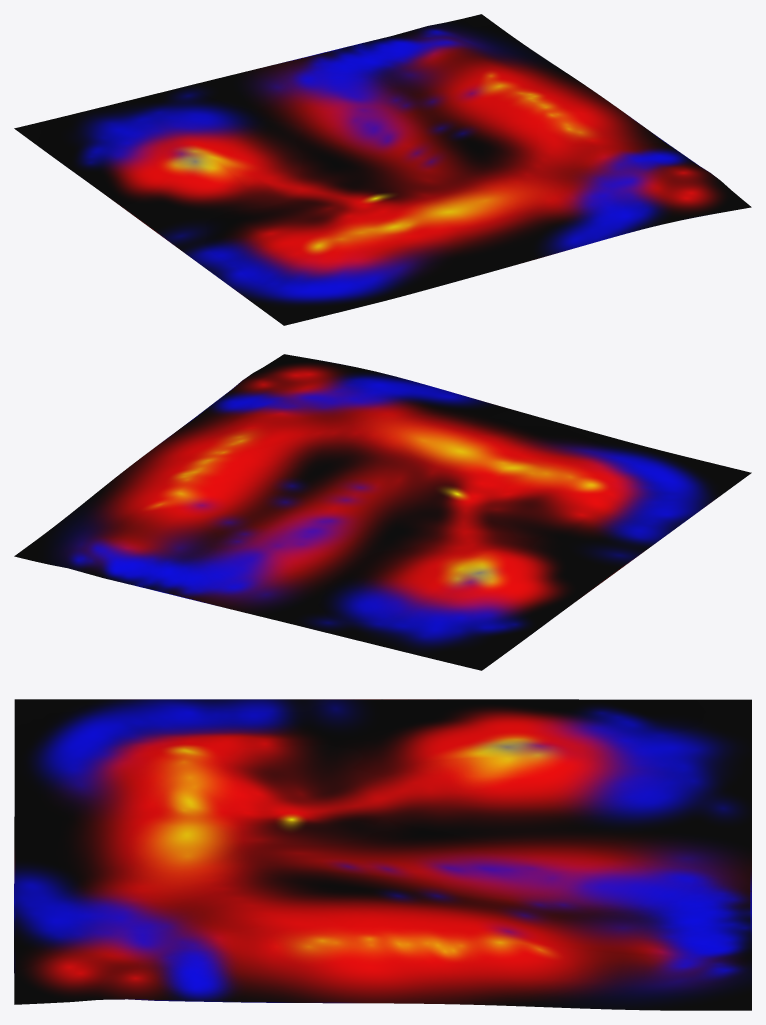
File: realterrain.glb
3 views of the same model, one above another, from view 1: azimuth 30°, elevation 25°; view 2: azimuth 150°, elevation 25°; view 3: azimuth 270°, elevation 25° (orthographic). The views are drawn at different scales.
Visible parts, largest first — view 1: Plane; view 2: Plane; view 3: Plane.
Part boxes in pixels (bbox=[...]): Plane: bbox=[14, 14, 751, 325]; Plane: bbox=[14, 354, 751, 670]; Plane: bbox=[14, 699, 751, 1010].
Size of the model in its own units: 200 by 7.85 by 200.
Materials: 1 (1 with a texture image).
